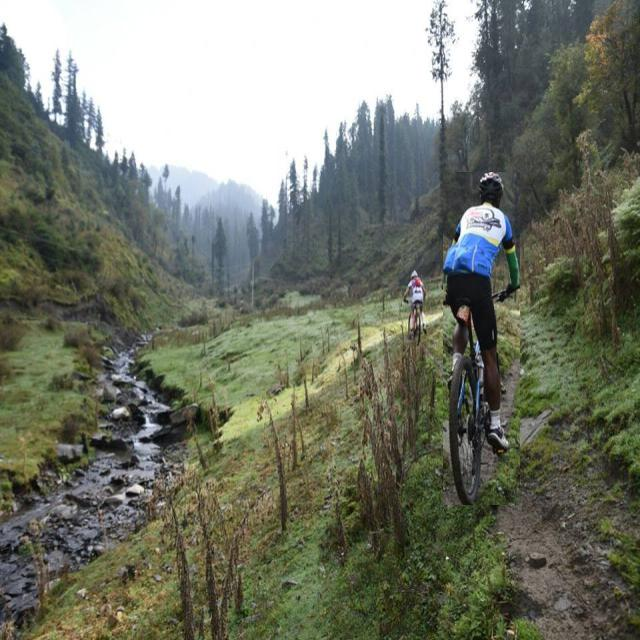bicycle: (443, 173, 519, 505)
